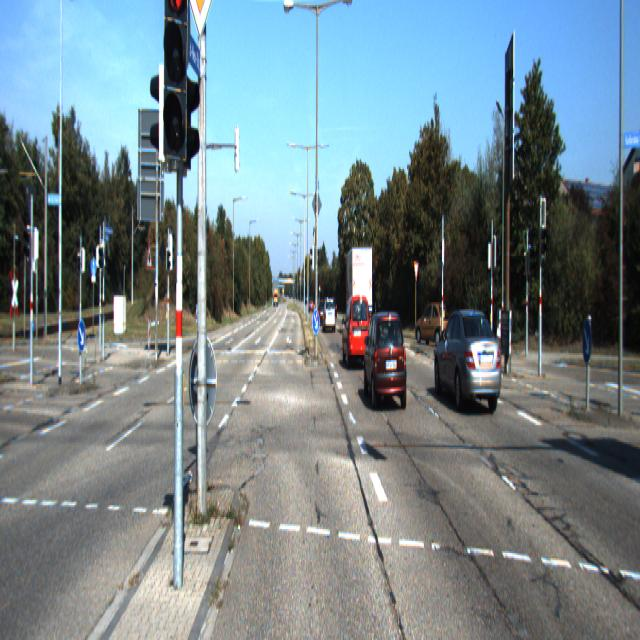Car: (433, 305, 504, 417), (364, 310, 408, 413), (342, 292, 371, 372), (415, 299, 449, 346), (322, 297, 336, 333)
DontCare: (272, 284, 278, 308), (308, 299, 312, 311)
Truck: (344, 244, 372, 336)
